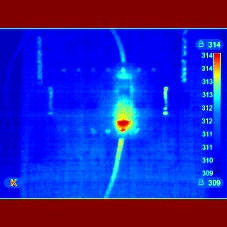High: (107, 103, 144, 143)
